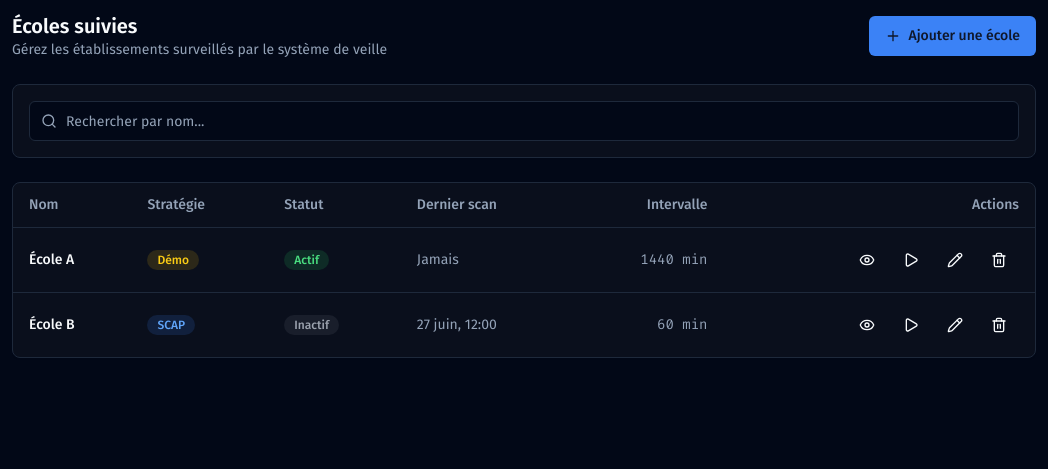
SchoolsPage › shows error banner on scan API failure and dismisses scan message
Later steps or results of the test are not shown.
Expected: the text "École A" is shown, top-left (13, 228), bottom-right (131, 292)
// Click scan button
Step 1. Click the button titled "Lancer un scan" in the row of "École A" → {"x": 911, "y": 260}, box top-left (891, 240), bottom-right (931, 280)
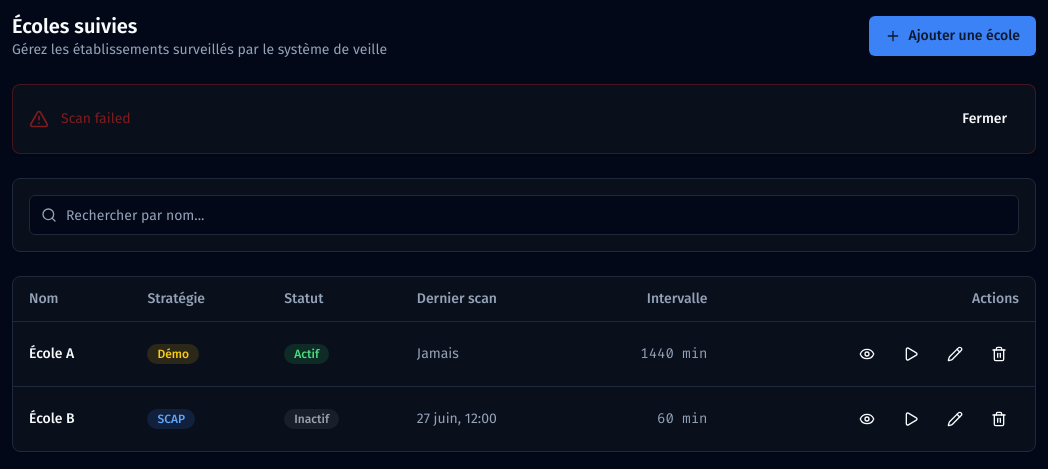
Now the text "Scan failed" is shown, box top-left (61, 109), bottom-right (131, 129)
